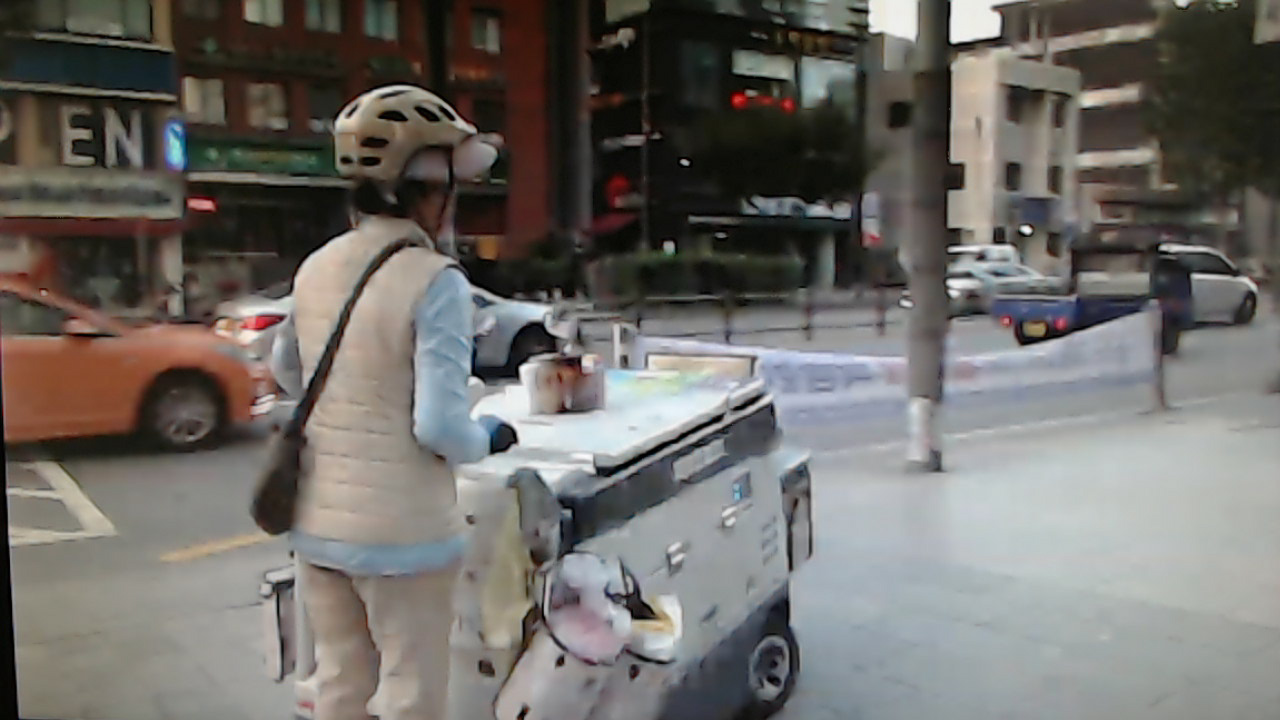Yakurut: (250, 75, 553, 720)
